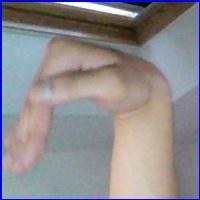del: (1, 32, 177, 178)
